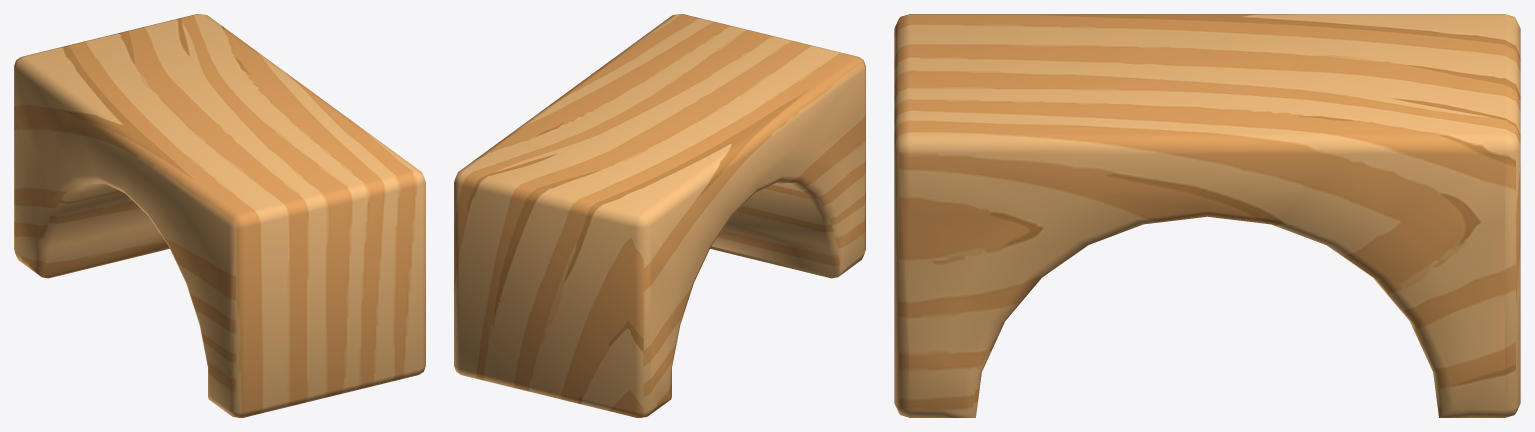
File: Arc.fbx
The picture shows the model from 3 angles, left to right: view 1: azimuth 30°, elevation 25°; view 2: azimuth 150°, elevation 25°; view 3: azimuth 270°, elevation 25°; orthographic projection. The views are drawn at different scales.
Parts seen in each view (by area): view 1: Arc; view 2: Arc; view 3: Arc.
Part boxes in pixels (bbox=[...]): Arc: bbox=[14, 14, 425, 417]; Arc: bbox=[454, 14, 865, 417]; Arc: bbox=[894, 14, 1520, 417].
Size of the model in its own units: 12.54 by 12.54 by 25.08.
